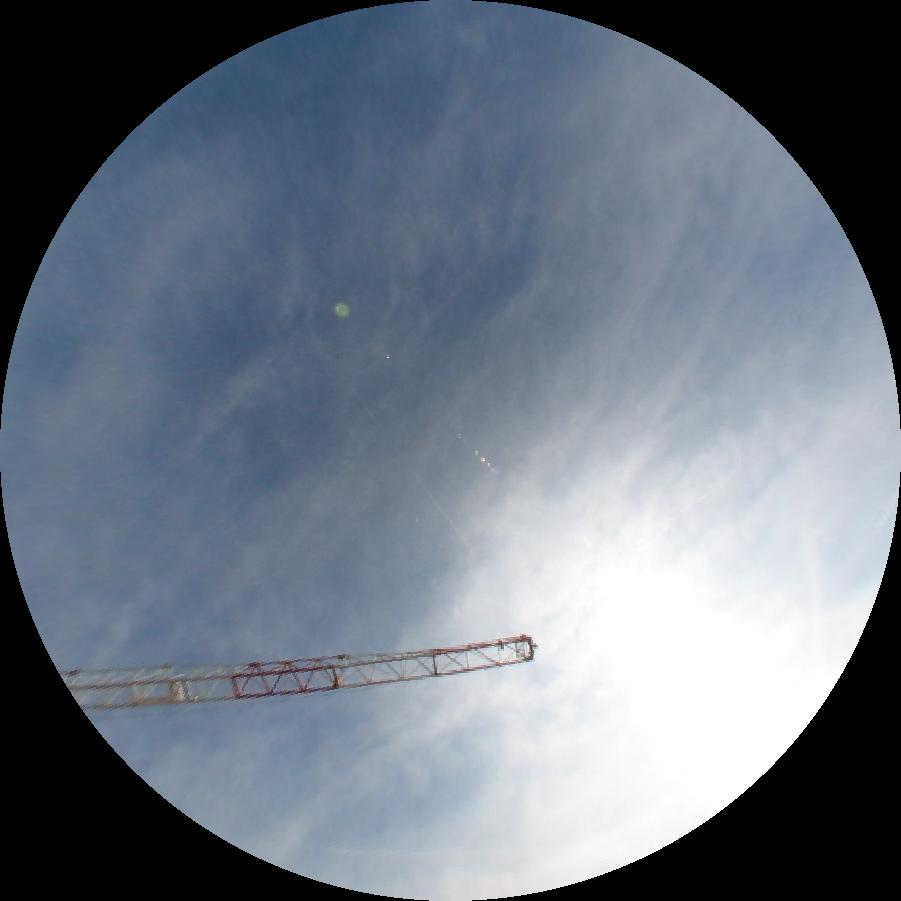contrail young: (314, 333, 467, 543)
sun: (628, 625, 828, 806)
